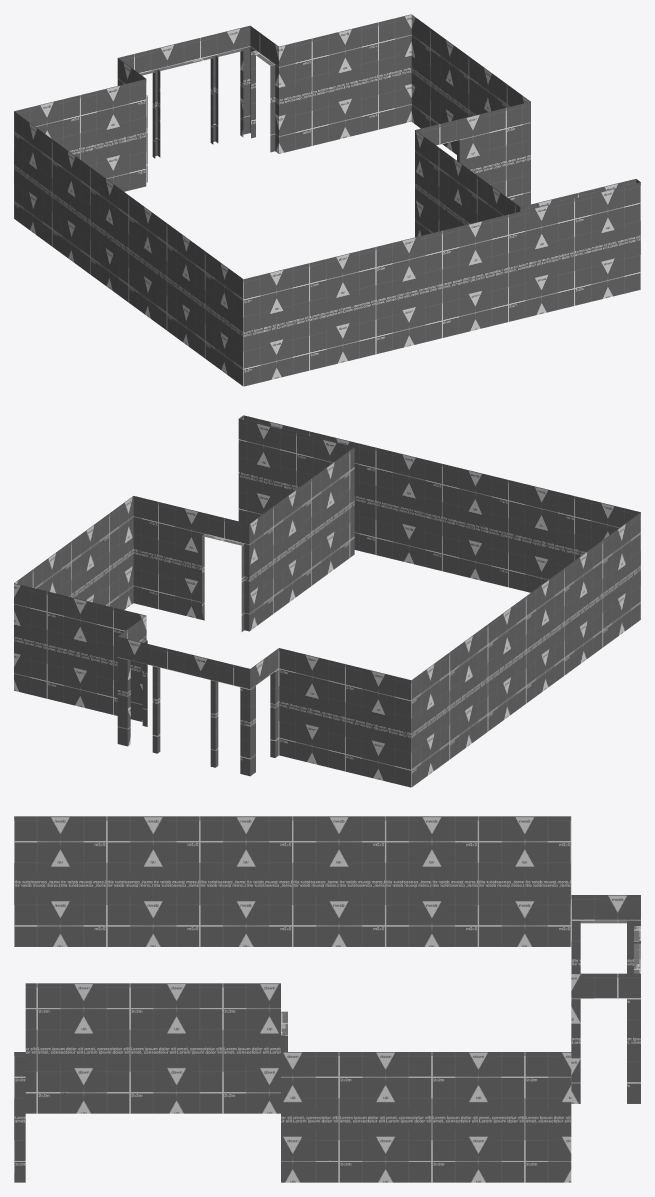
File: exterior_walls_01.glb
3 renders of one model, top to bottom at view 1: azimuth 30°, elevation 25°; view 2: azimuth 150°, elevation 25°; view 3: azimuth 270°, elevation 25°, orthographic. The views are drawn at different scales.
Visible parts, largest first — view 1: exterior_walls_01; view 2: exterior_walls_01; view 3: exterior_walls_01.
Boxes of the visible parts, left/top/right/bottom form: exterior_walls_01: left=14, top=14, right=640, bottom=386; exterior_walls_01: left=14, top=415, right=640, bottom=787; exterior_walls_01: left=14, top=816, right=640, bottom=1182.
Size of the model in its own units: 12 by 3.1 by 13.5.
1 material, 1 textured.
